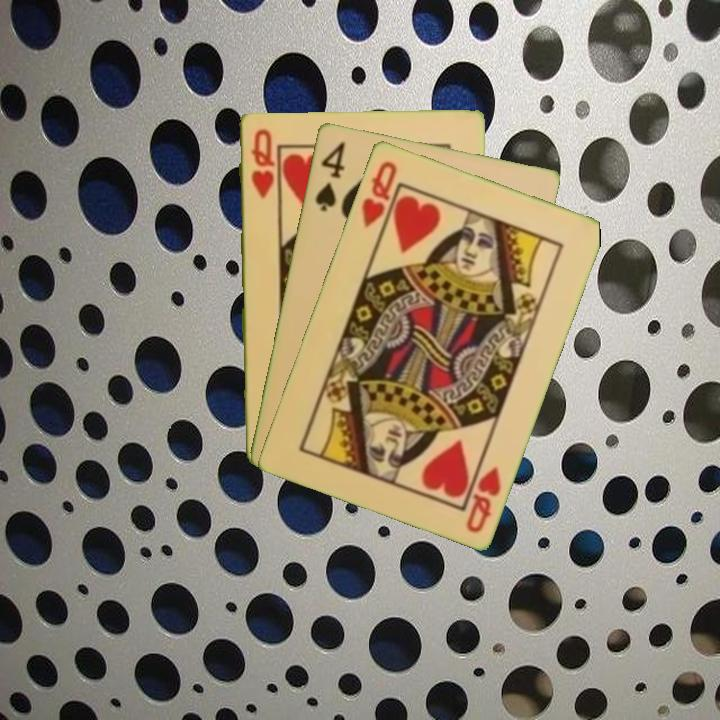4s: (311, 137, 348, 214)
Qh: (358, 157, 400, 230), (462, 462, 504, 535), (247, 125, 276, 201)
